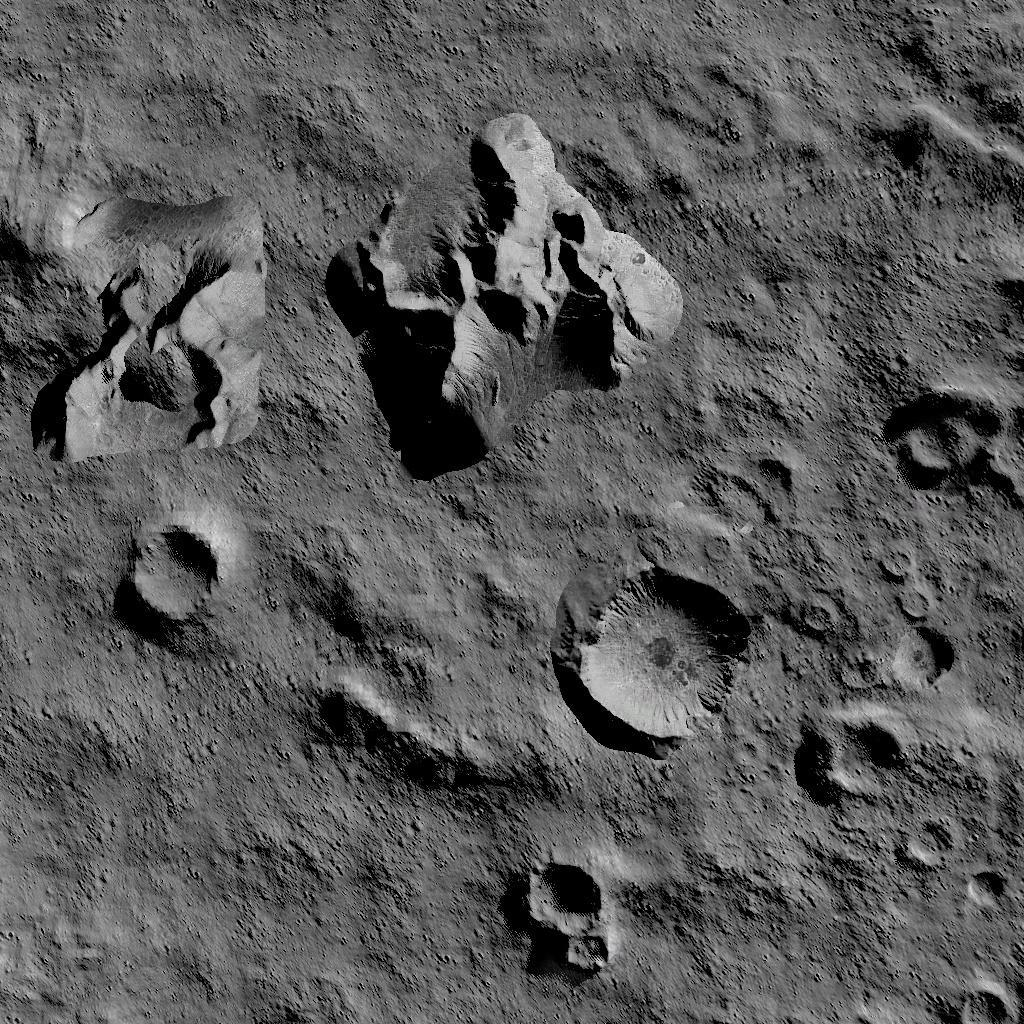Boulders: (330, 114, 672, 475), (1, 186, 285, 468)
Crater: (564, 562, 754, 748), (874, 377, 1024, 505), (125, 522, 234, 630), (520, 854, 615, 972), (788, 711, 912, 801), (878, 623, 958, 692), (931, 969, 1024, 1024), (892, 813, 950, 860), (962, 860, 1005, 904), (793, 598, 836, 636)
Plan surface: (3, 640, 338, 1024), (343, 0, 1024, 104), (0, 0, 320, 176), (691, 116, 845, 464), (627, 810, 872, 1024), (351, 756, 506, 1024)
